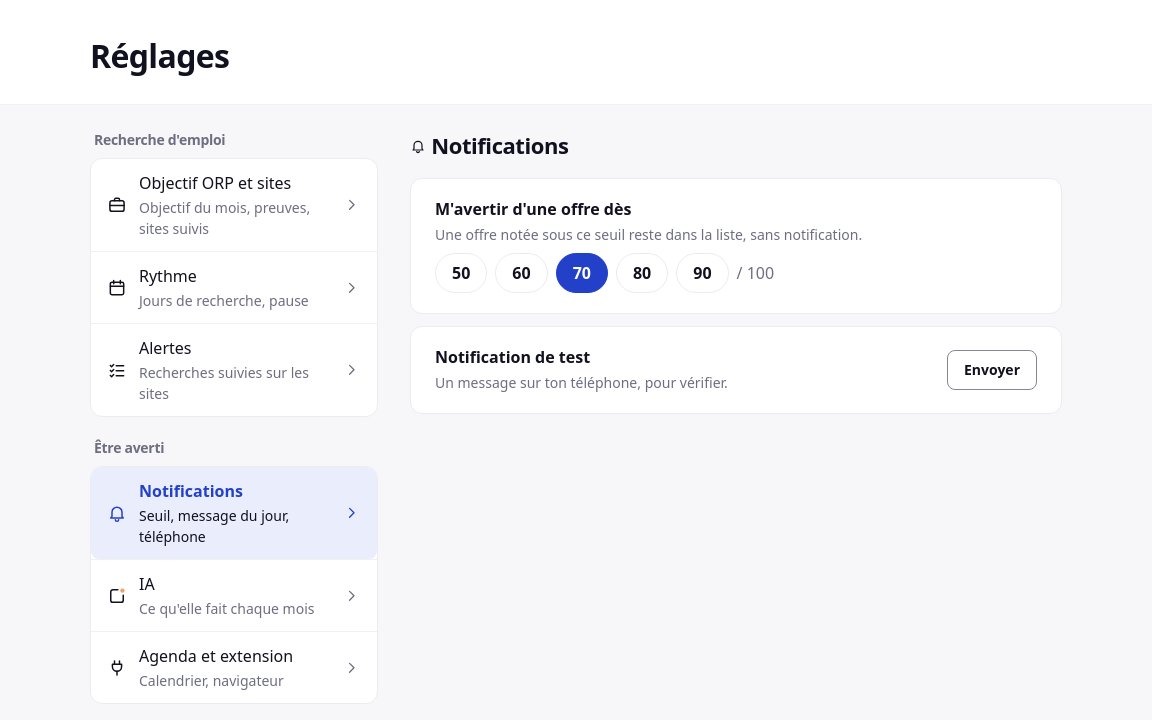
Test case: SettingsView, notifications › configurées : envoie une notification de test
Step 1. Click the button with test id "test-notification" → (992, 370), box 947,350 -> 1037,390
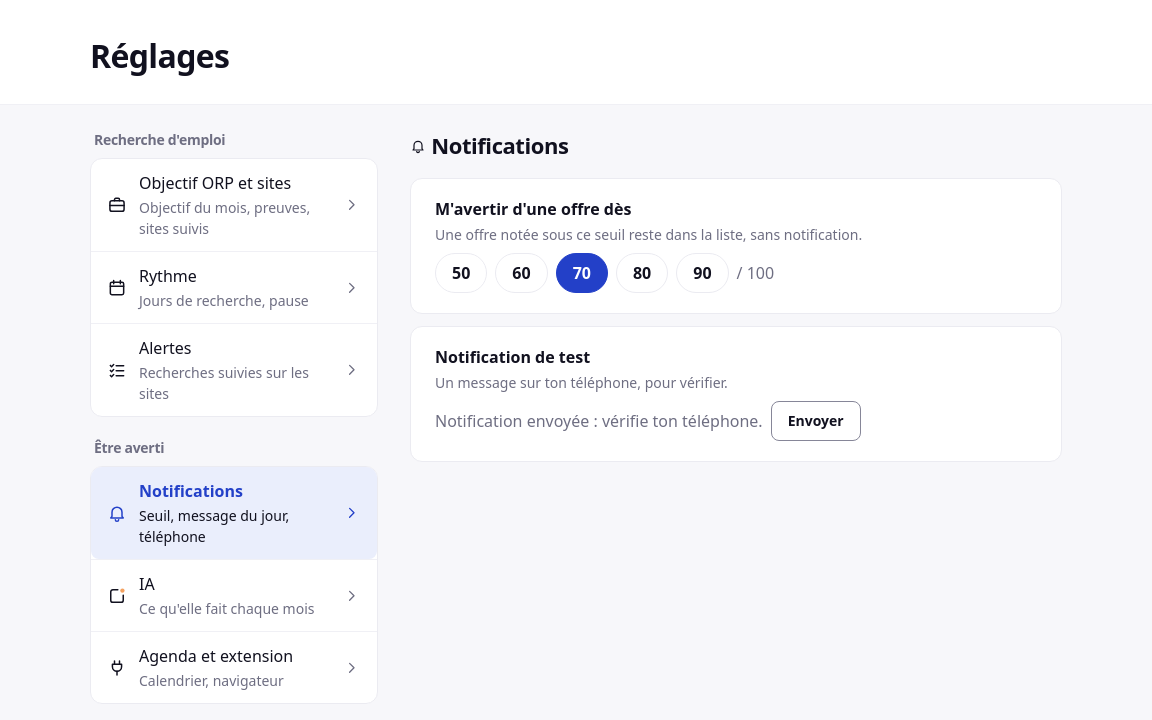
Expected: the message with class "muted" shows "Notification envoyée", 435,410 -> 763,432
